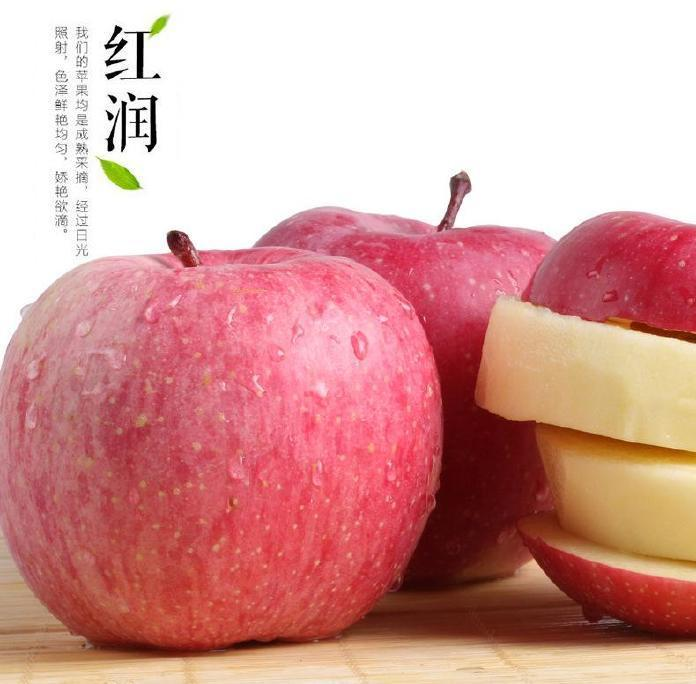apple: (1, 236, 451, 655), (251, 183, 560, 583)
